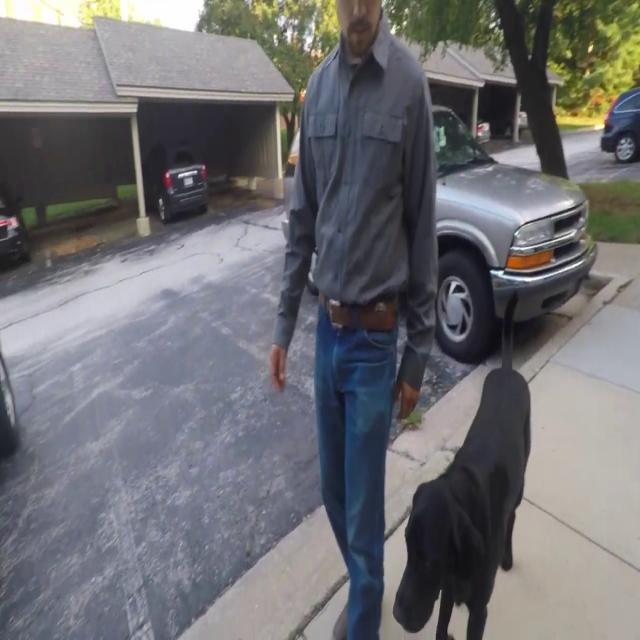Unleashed_Dog: (345, 291, 531, 640)
